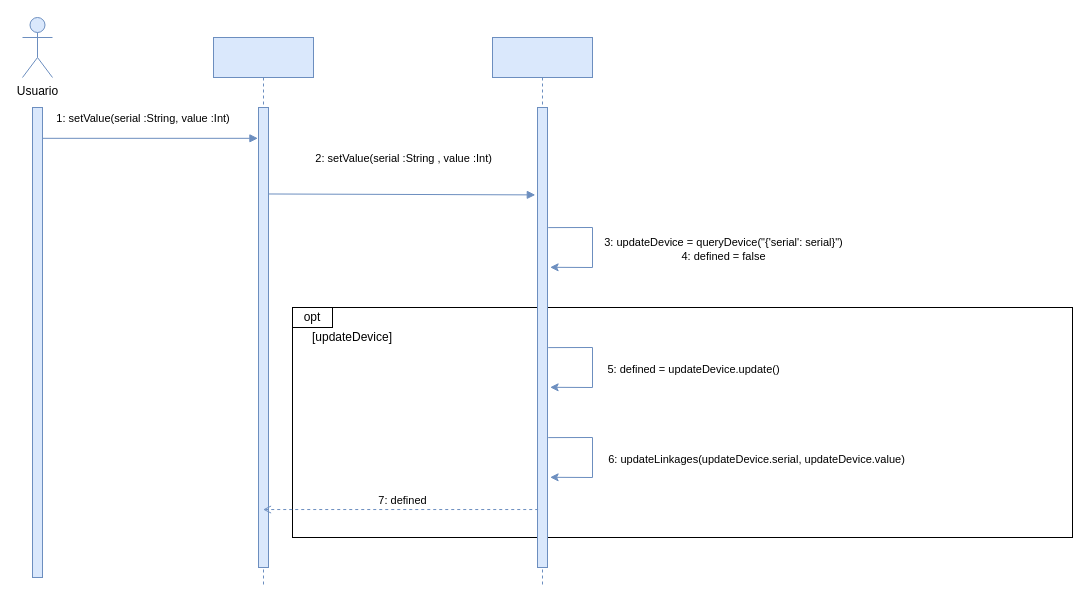
Some shapes in this 1090 by 605 pixel diagram are drawn without their labels. Each missing label, with the box of its shape:
:Cliente: (212, 36, 314, 588)
:Servidor: (492, 36, 592, 588)
